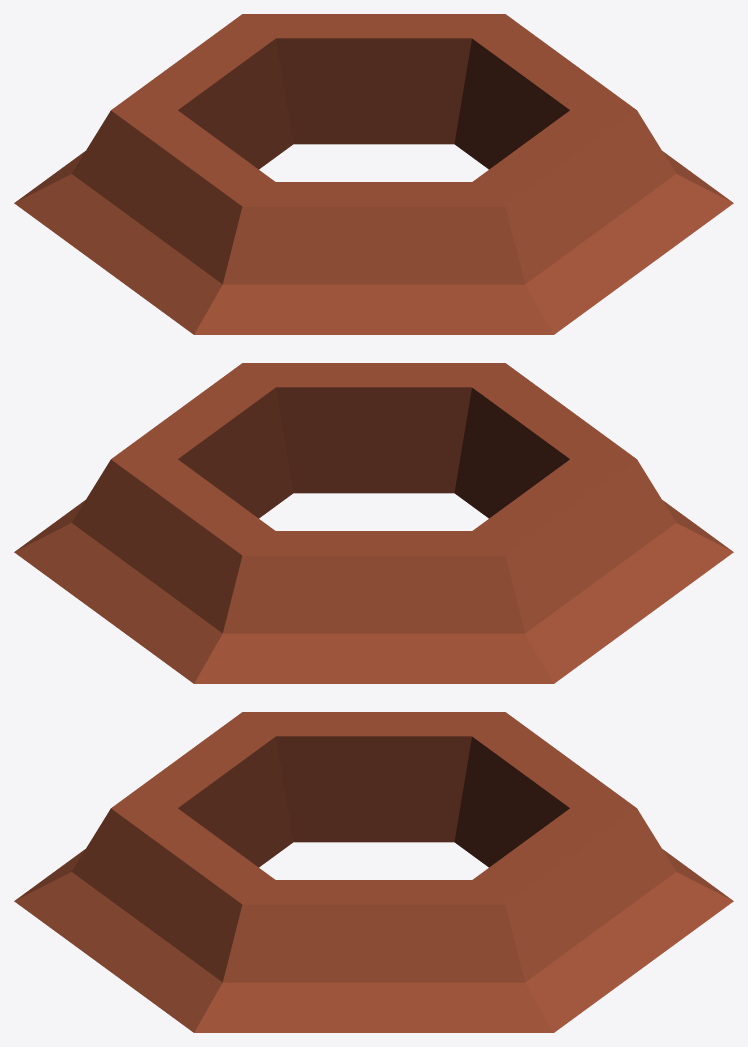
File: Crater.glb
3 views of the same model, one above another, from view 1: azimuth 30°, elevation 25°; view 2: azimuth 150°, elevation 25°; view 3: azimuth 270°, elevation 25° (orthographic).
Parts seen in each view (by area): view 1: crater; view 2: crater; view 3: crater.
Boxes of the visible parts, x1,y1,x2,y2 form: crater: (14, 14, 733, 334); crater: (14, 363, 733, 683); crater: (14, 712, 733, 1032).
Bounding box in the file's own units: 0.715 × 0.1176 × 0.8256.
